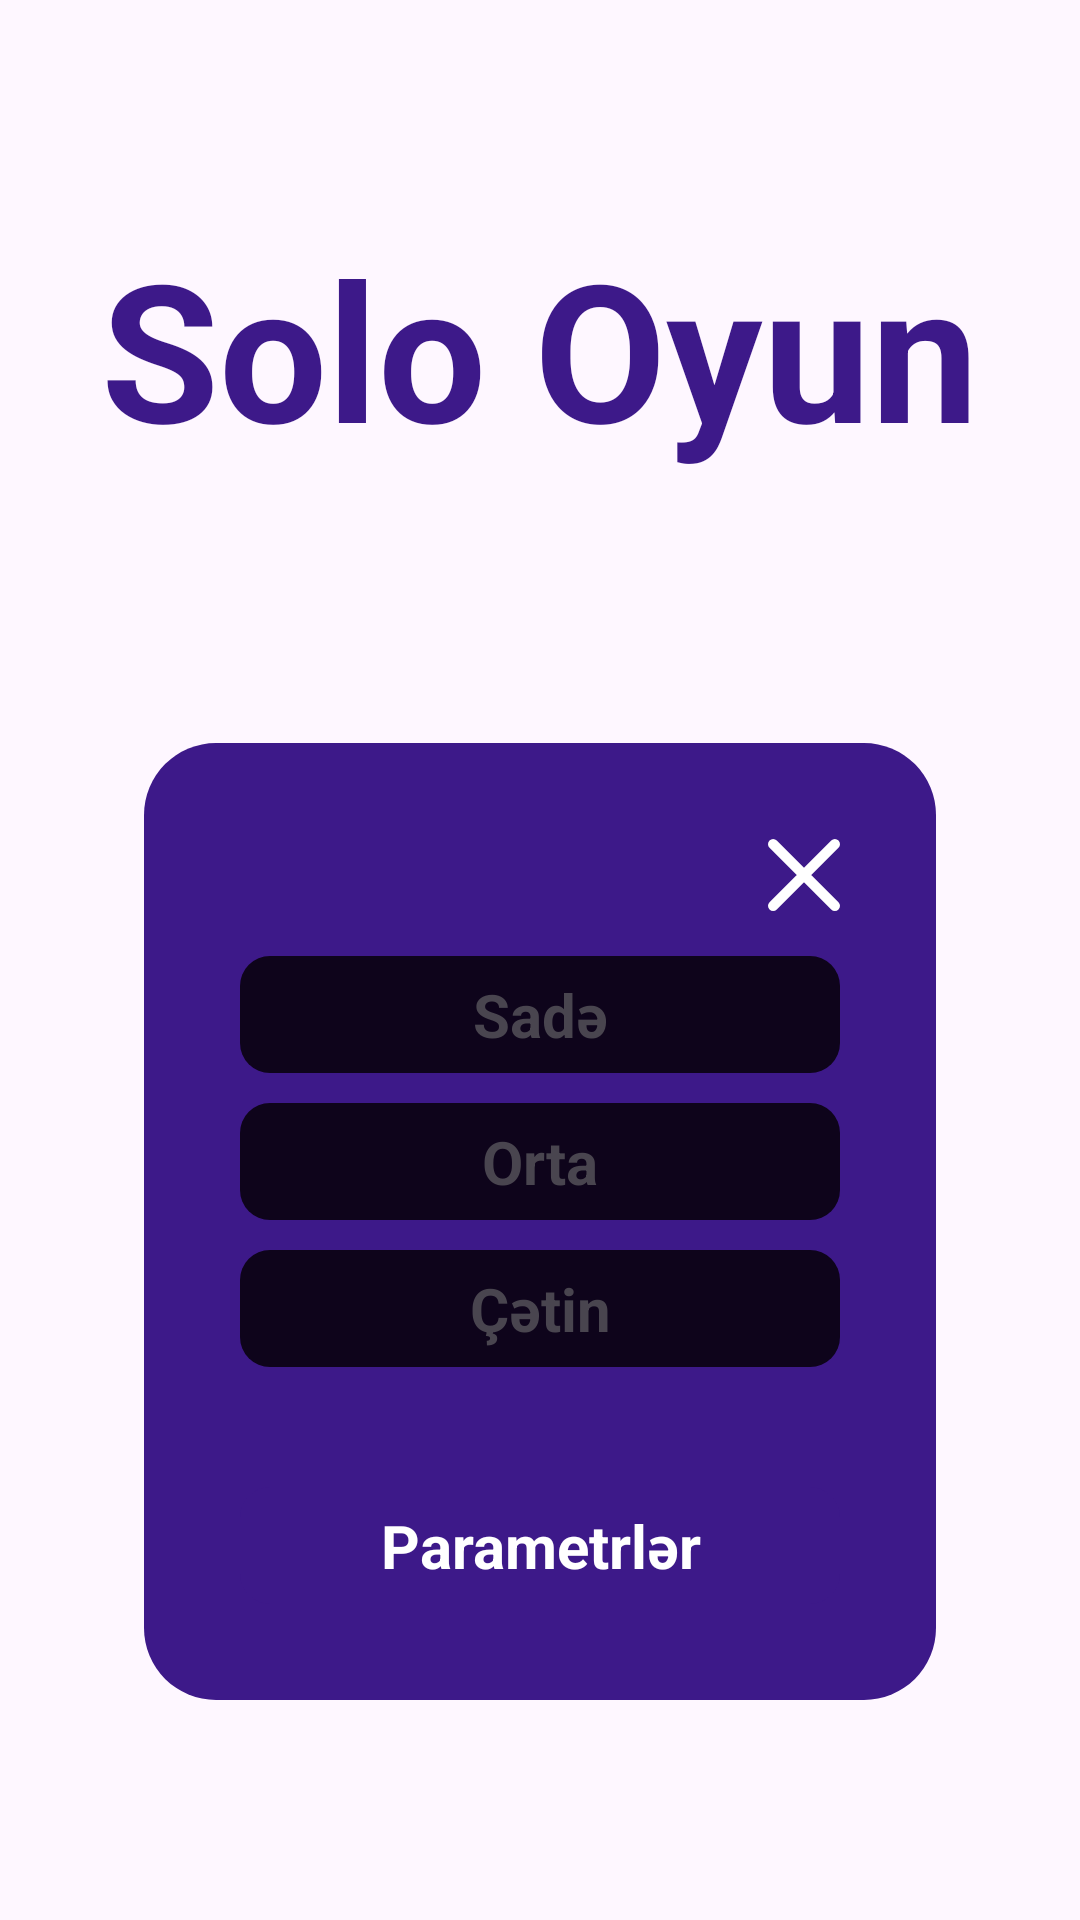

Icons on this 1080w x 1920h Android screen, each with the point to tap as (x,y):
cancel: (804,875)
